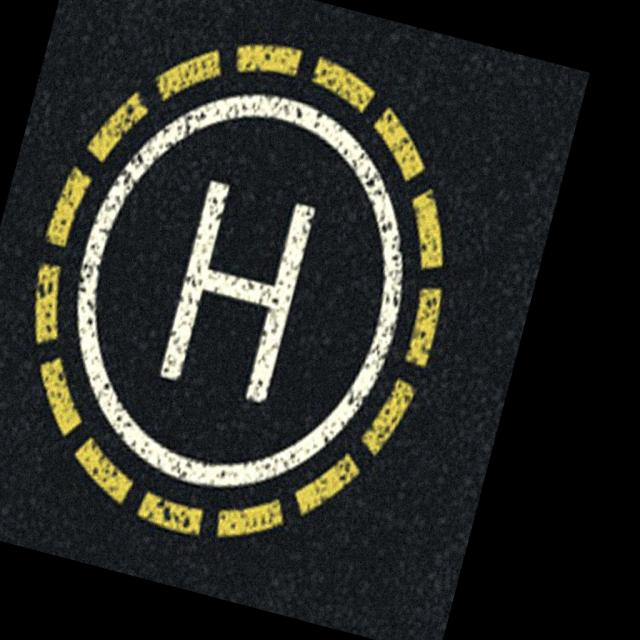helipad: (71, 90, 402, 491)
